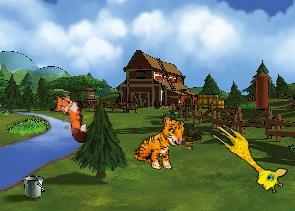fox: (48, 90, 89, 145)
giraffe: (202, 119, 292, 197)
tiger: (131, 111, 188, 174)
